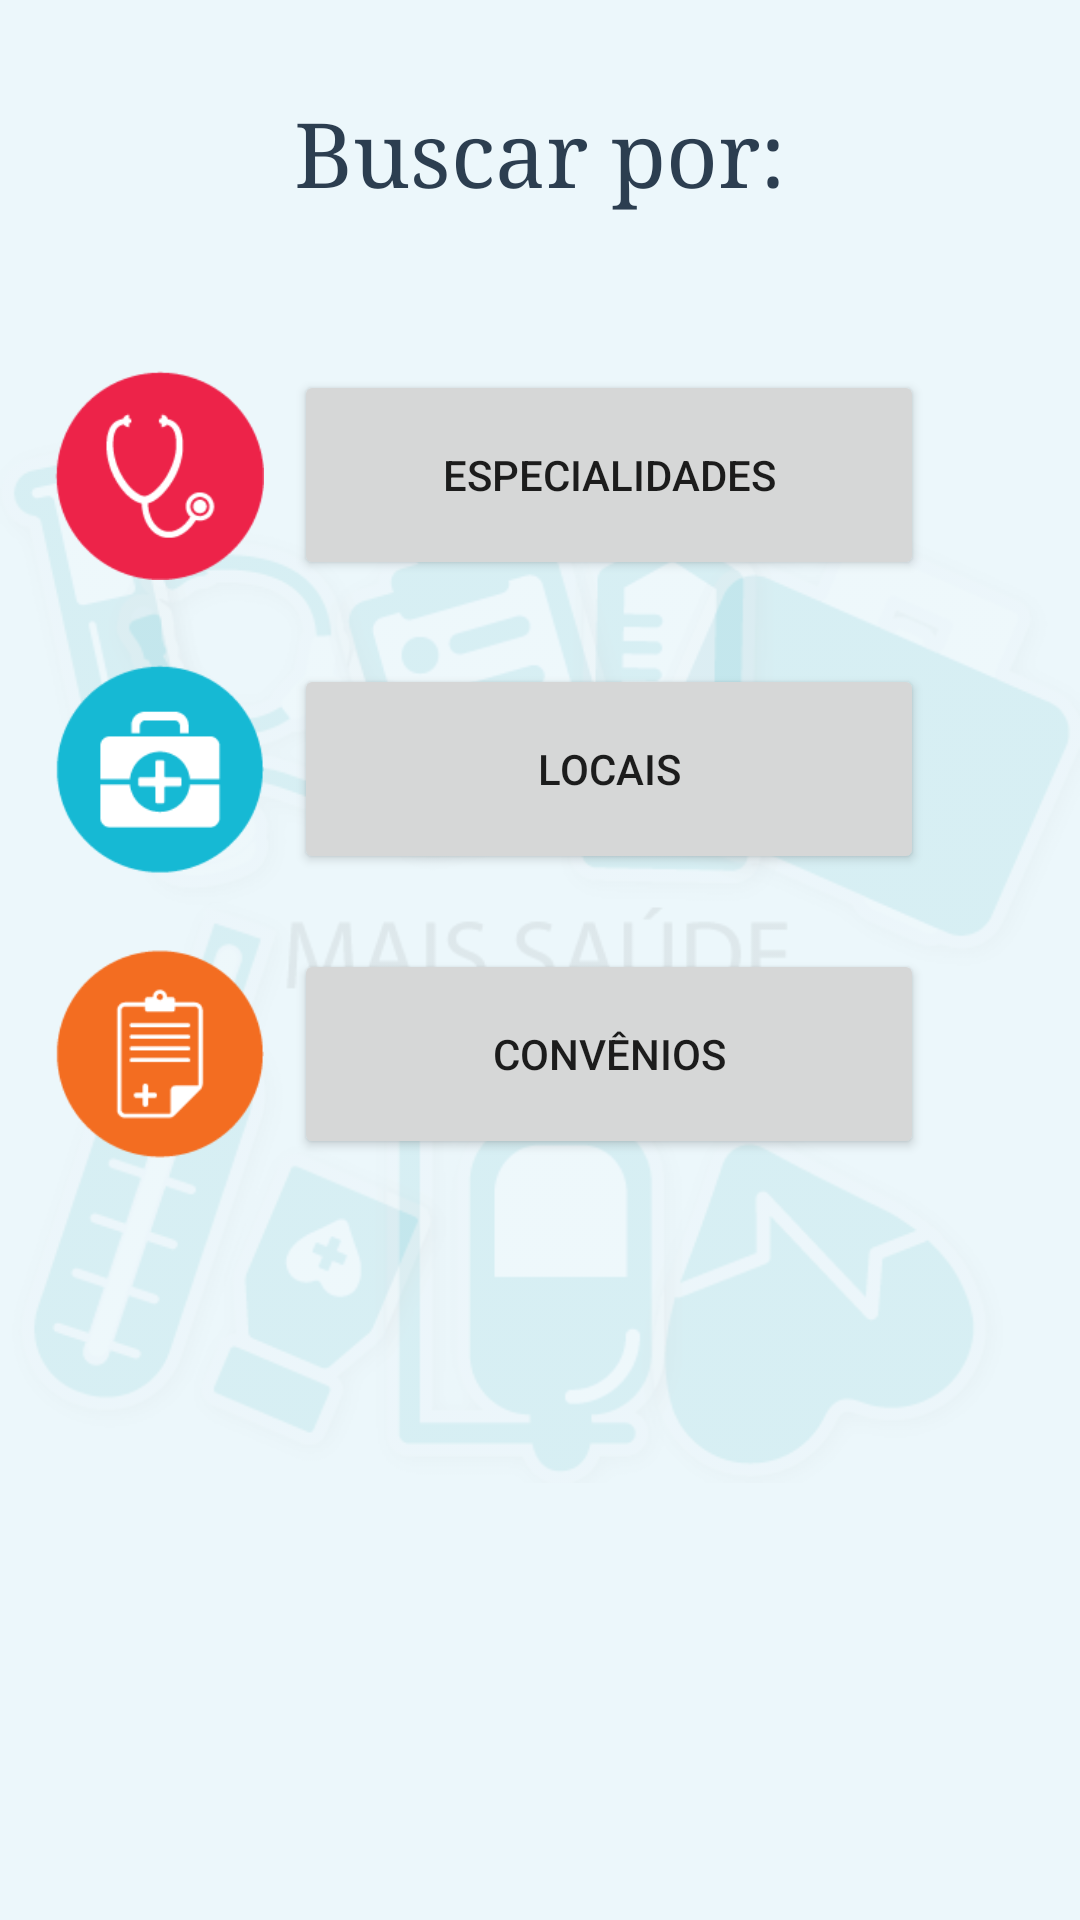

Icons on this 1080w x 1920h Android screen, each with its box as Rect(x1, y1, x2, y2):
convenio: Rect(56, 950, 264, 1158)
